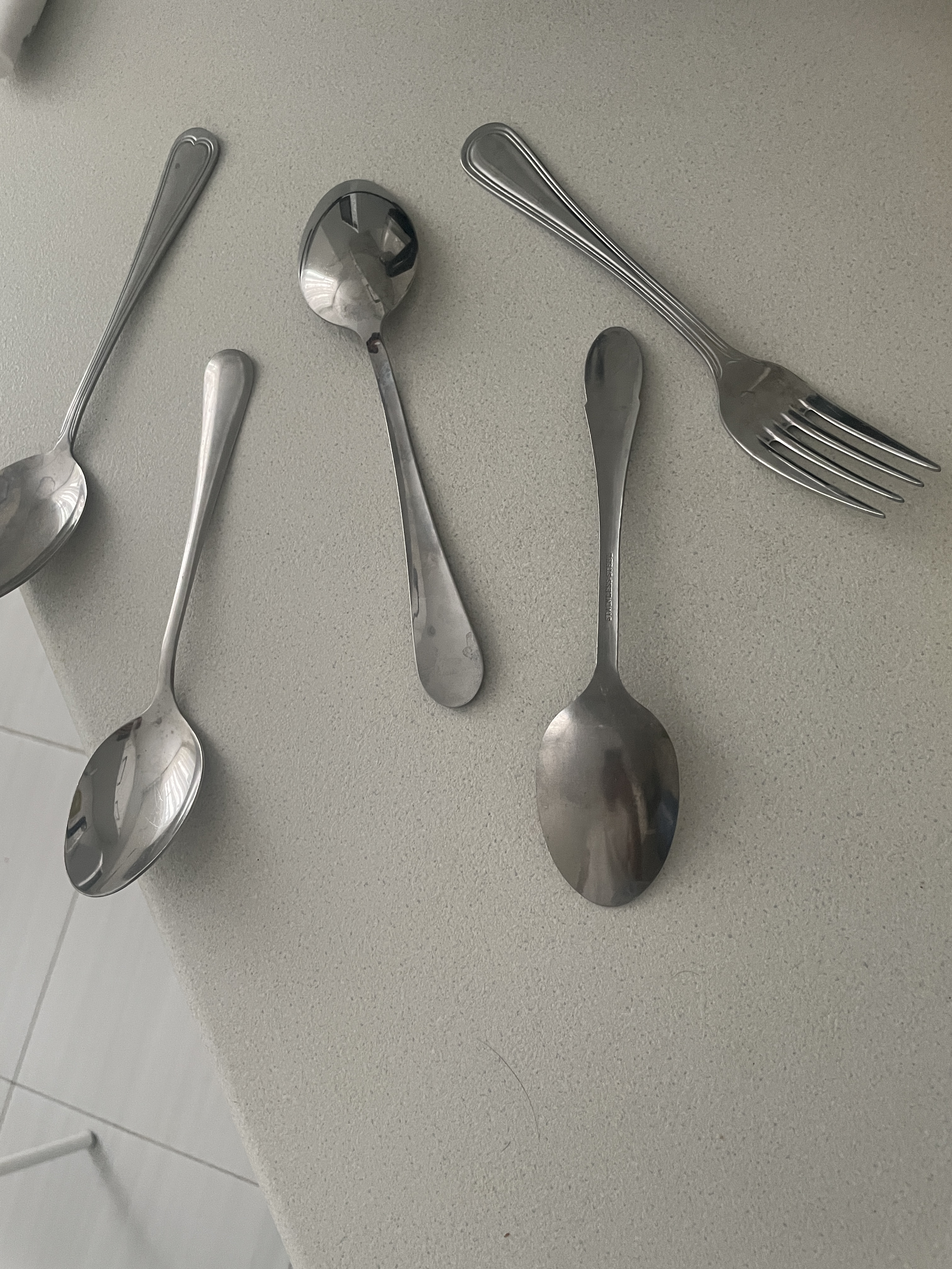spoon: (62, 347, 257, 899), (0, 125, 219, 596), (298, 175, 487, 708), (534, 327, 680, 903)
